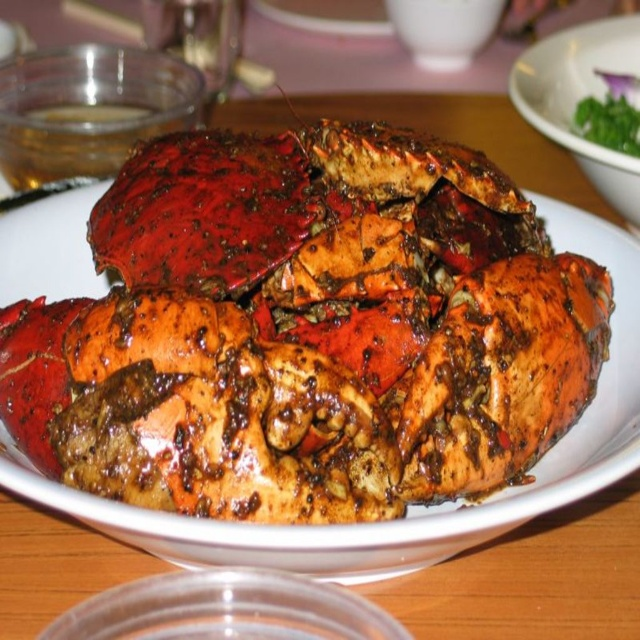Crab: (0, 122, 618, 522)
